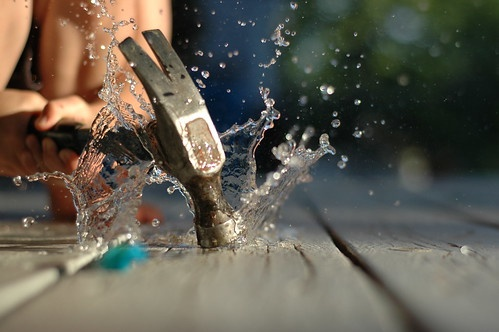hammer: (30, 29, 245, 246)
